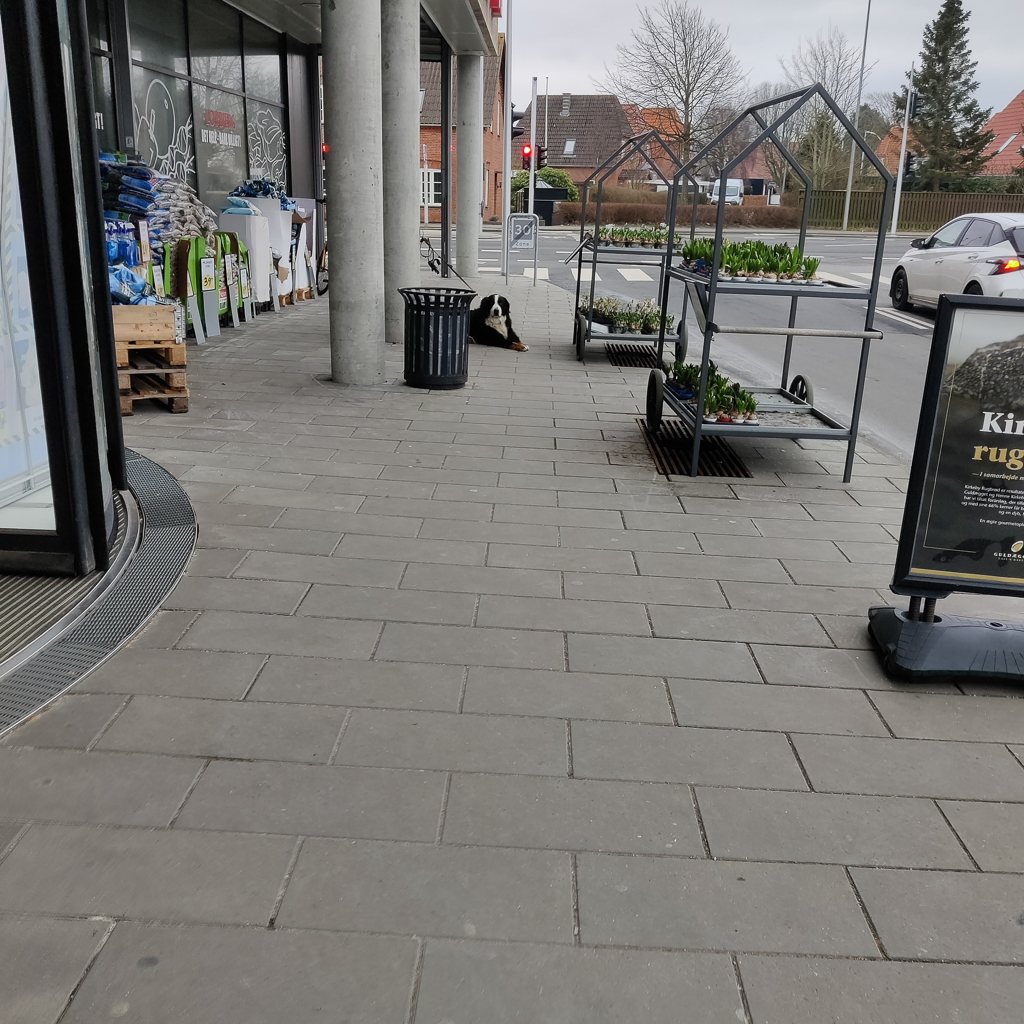Dog: (462, 286, 535, 356)
